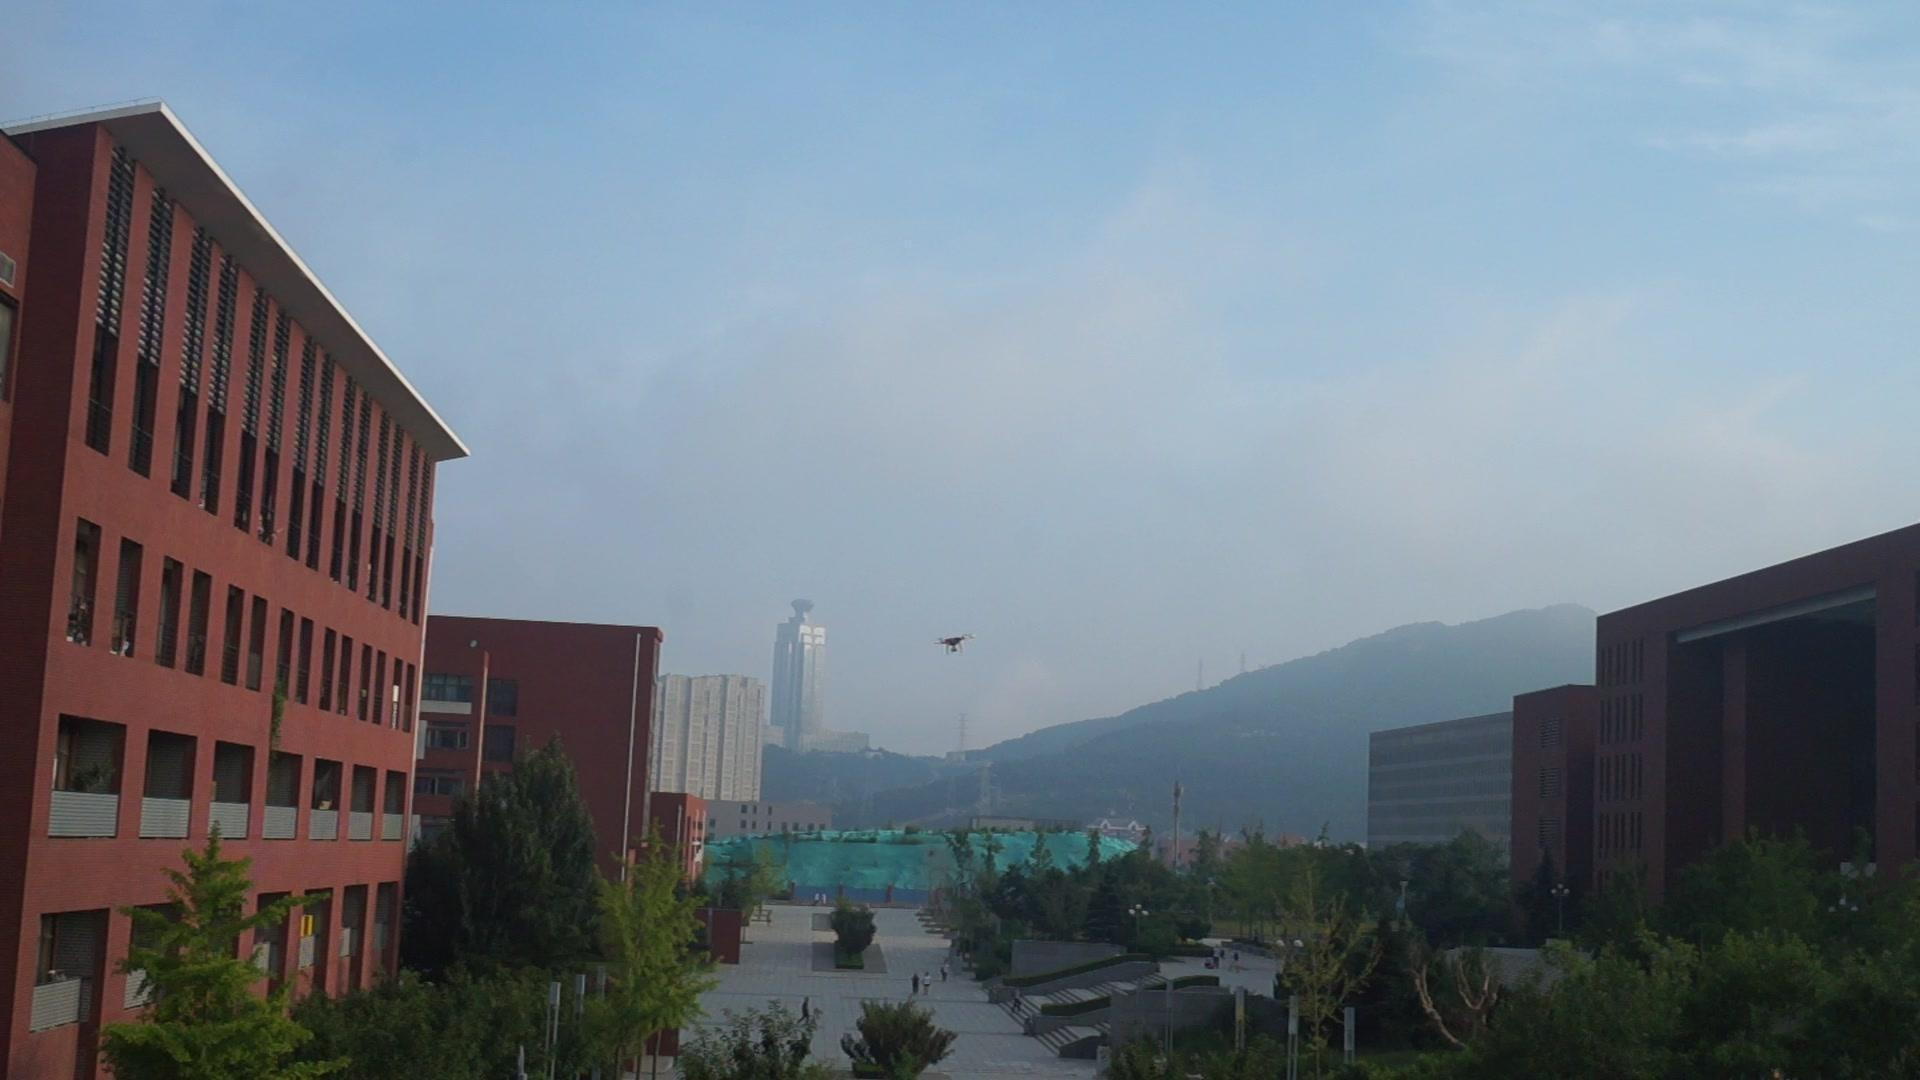UAV: (935, 634, 978, 655)
